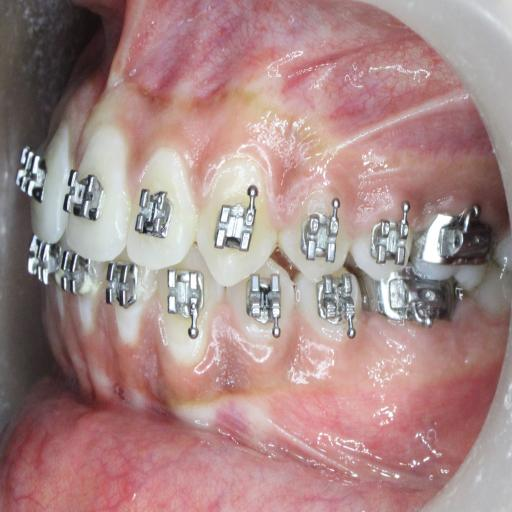correct_brace: (284, 182, 351, 270), (211, 192, 256, 254), (64, 164, 108, 226), (135, 183, 173, 242)
incorrect_brace: (131, 138, 196, 266), (298, 211, 338, 263)
